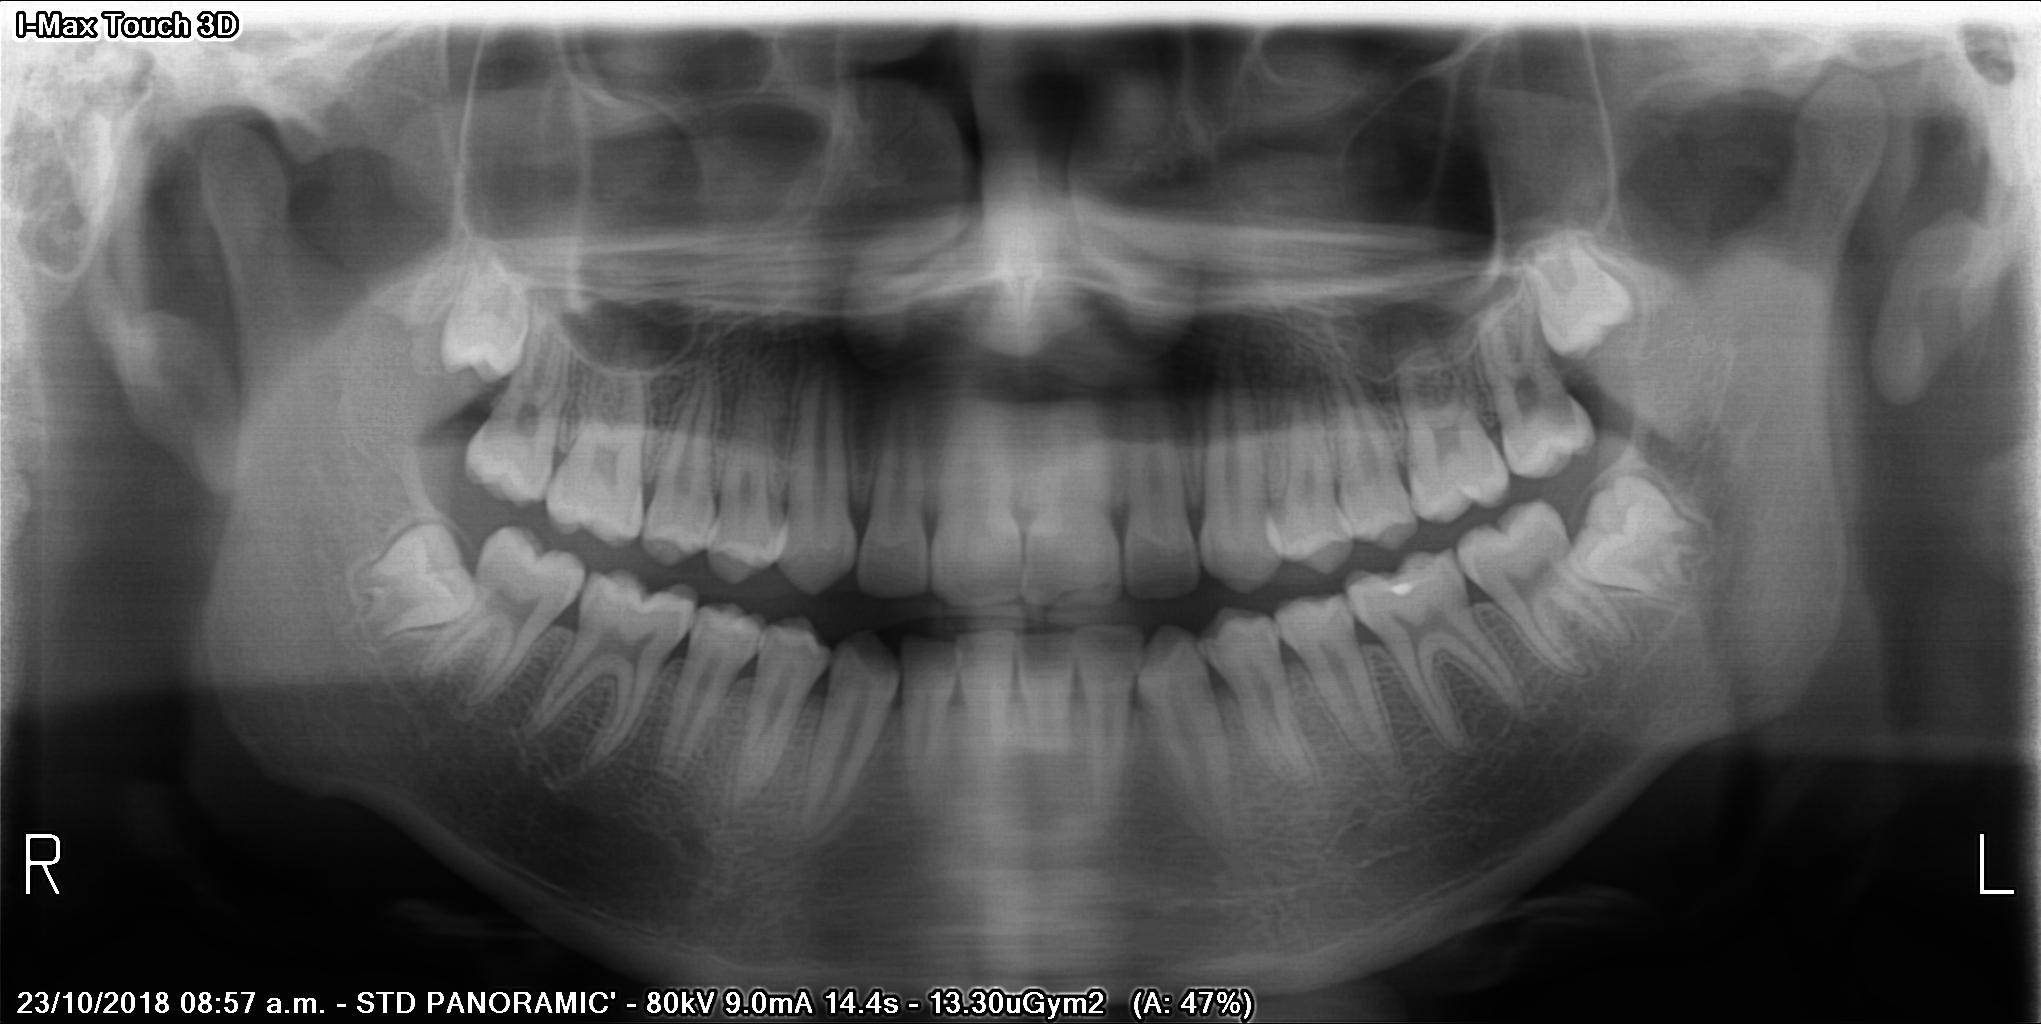Çürük: (1383, 576, 1422, 609)
